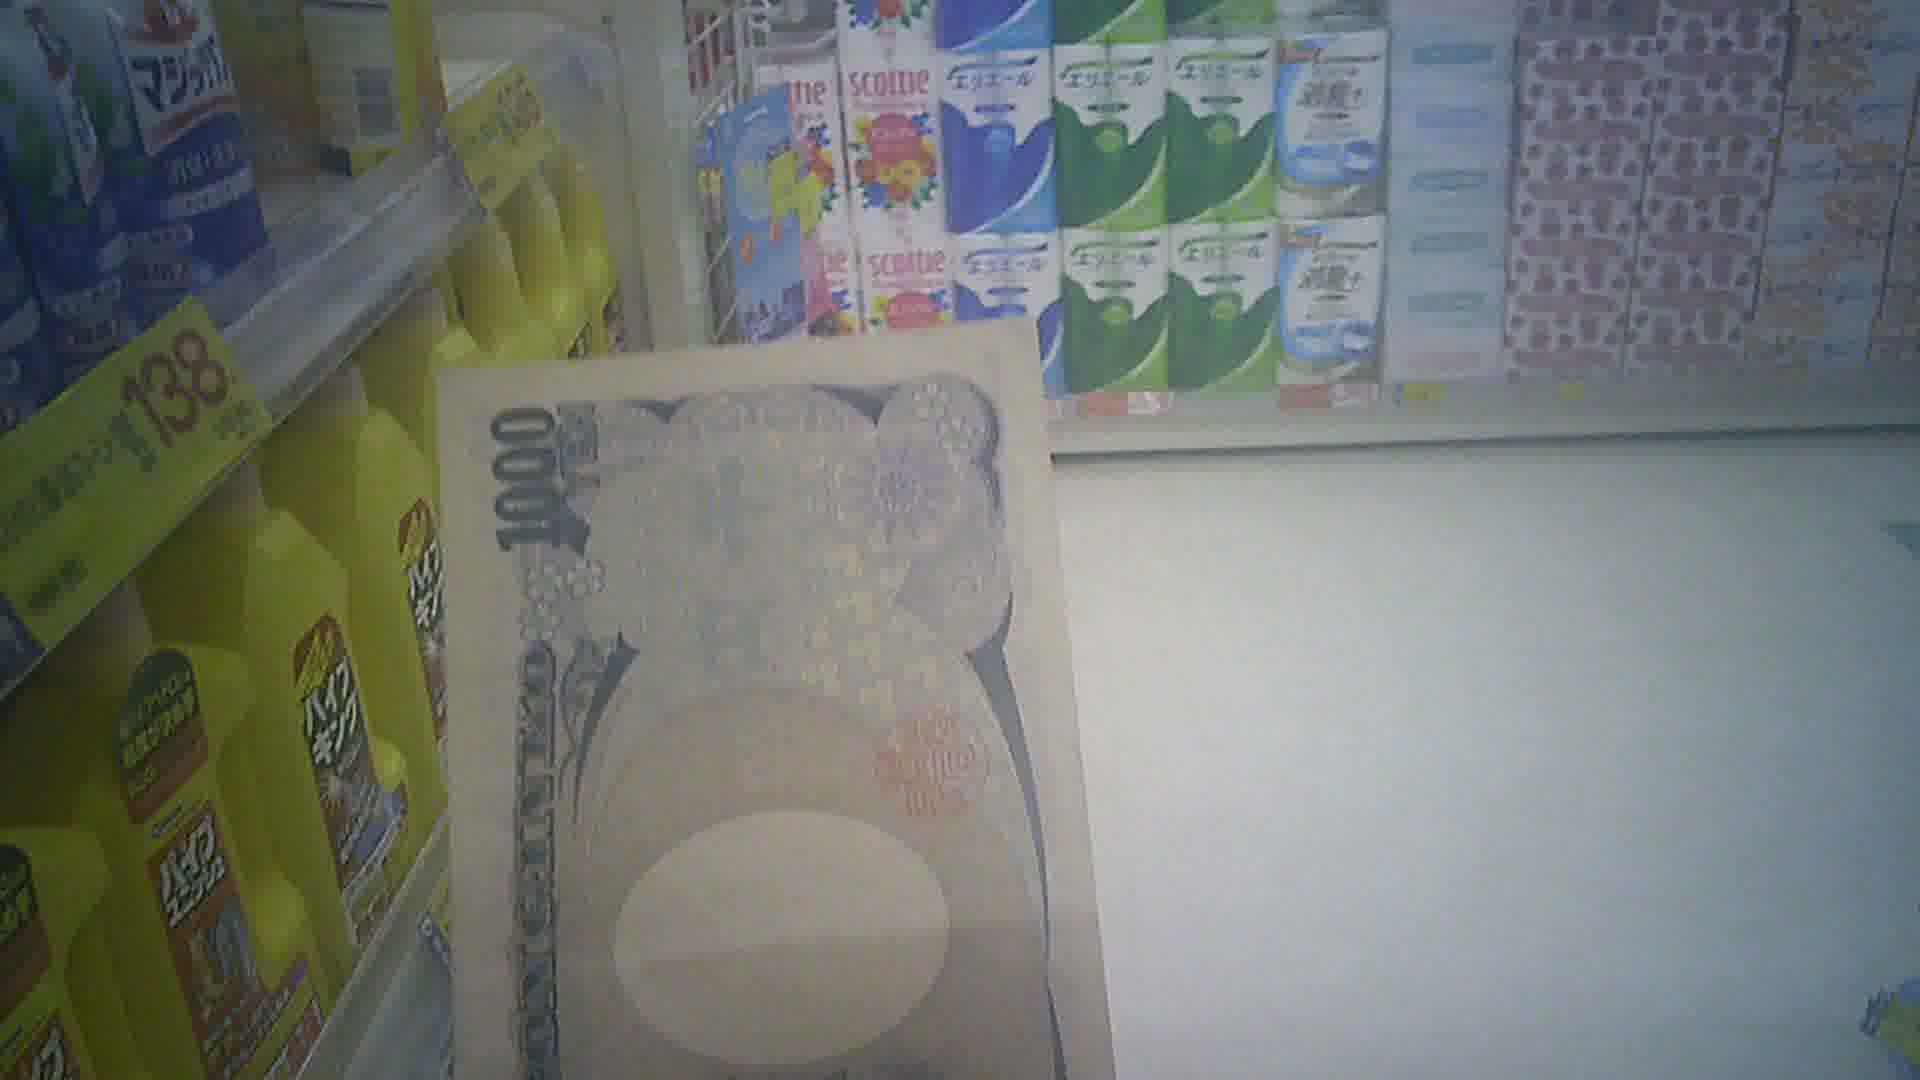1,000 Yen: (429, 327, 1131, 1079)
